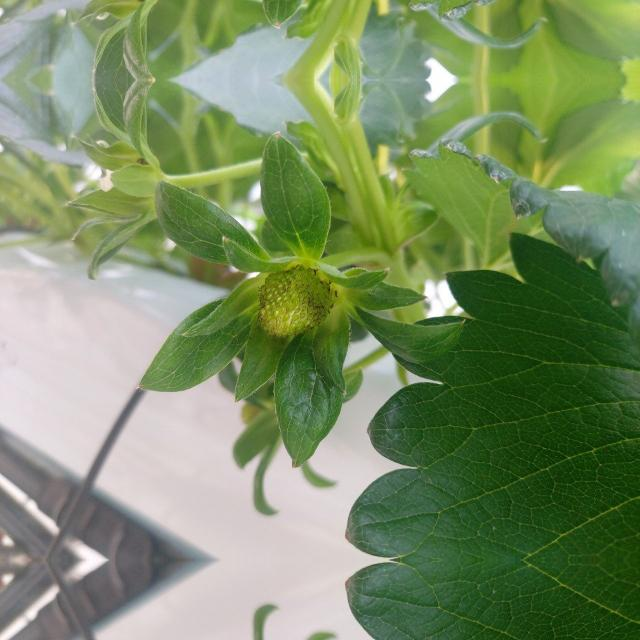Health_25: (256, 259, 336, 337)
